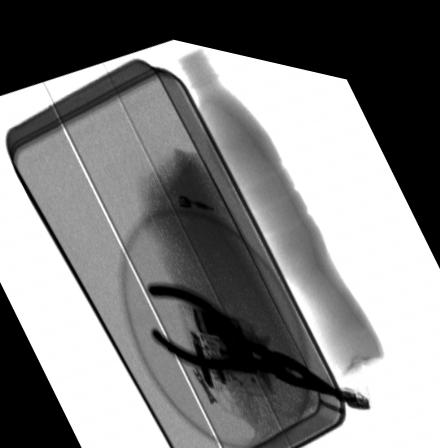Pliers: (143, 271, 345, 382)
